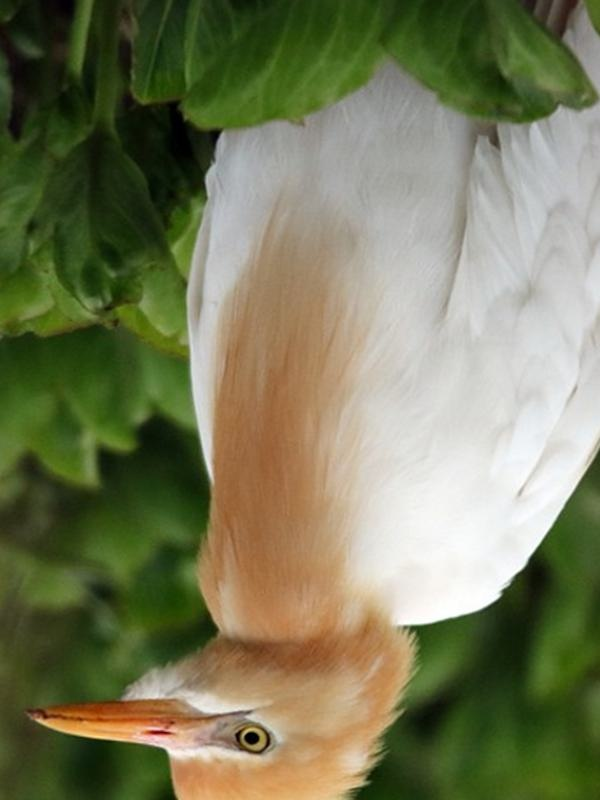egret: (28, 67, 600, 796)
